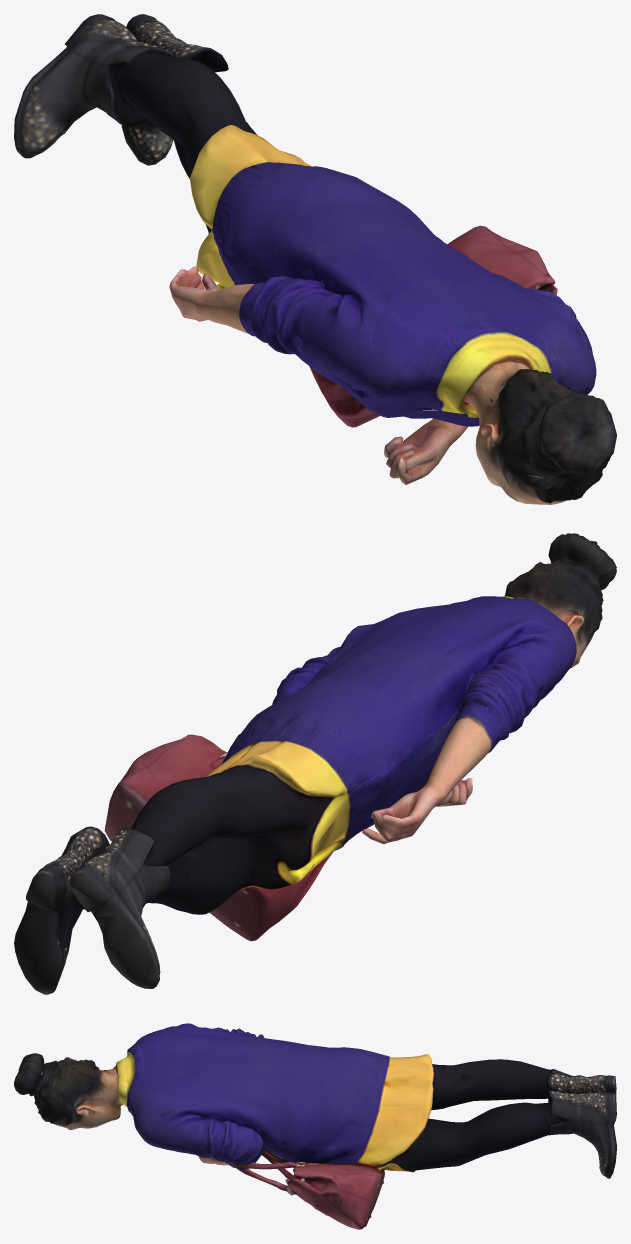
The model's file is nvren1.glb.
3 views of the same model, one above another, from view 1: azimuth 30°, elevation 25°; view 2: azimuth 150°, elevation 25°; view 3: azimuth 270°, elevation 25° (orthographic). The views are drawn at different scales.
Visible parts, largest first — view 1: nvren; view 2: nvren; view 3: nvren.
Boxes of the visible parts, left/top/right/bottom form: nvren: left=14, top=14, right=616, bottom=504; nvren: left=14, top=533, right=616, bottom=994; nvren: left=14, top=1023, right=616, bottom=1229.
Size of the model in its own units: 0.695 by 0.508 by 1.75.
Materials: 1 (1 with a texture image).
